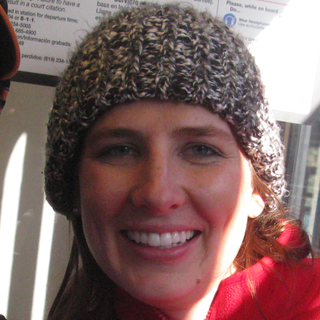eye: (172, 142, 228, 162), (92, 141, 144, 162)
